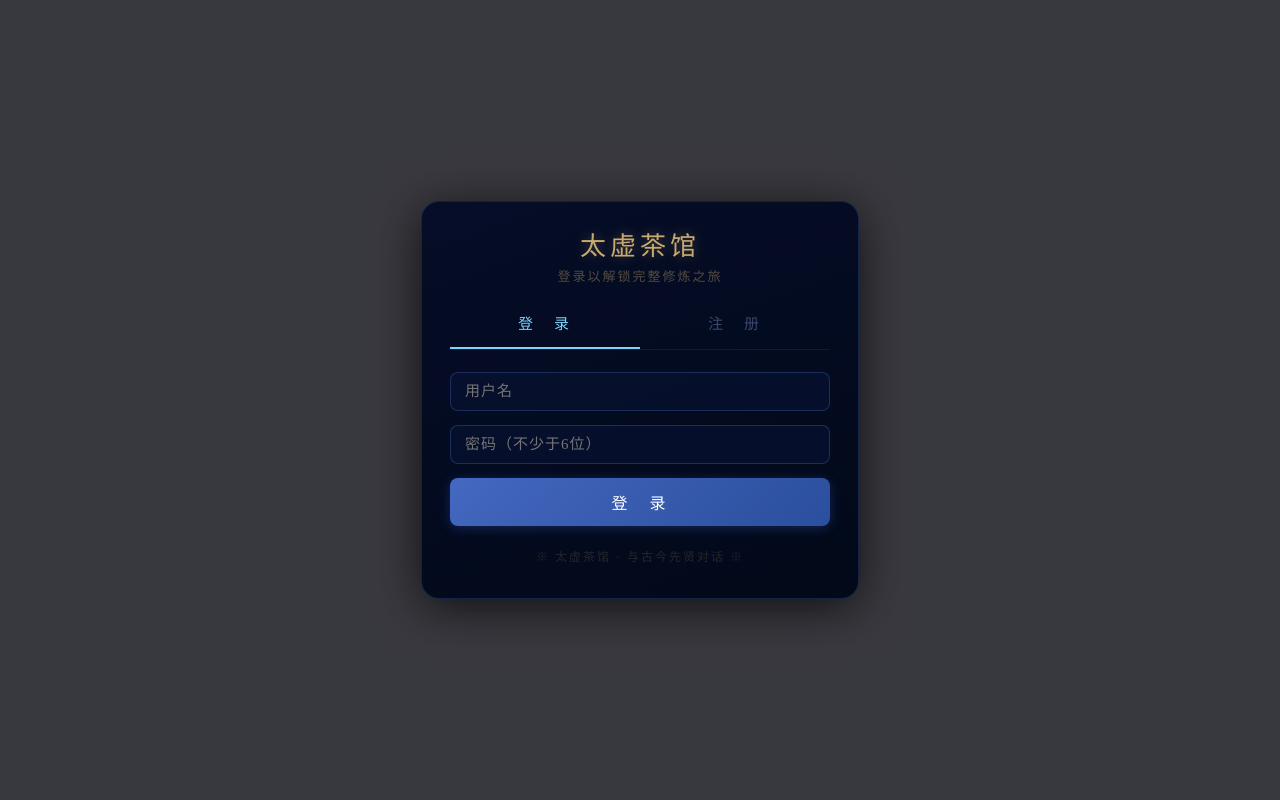
LoginModal › 渲染 › 切换到注册 Tab 后出现昵称输入框
The image size is (1280, 800).
# 全角空格，用 regex 匹配
Step 1. Click the text "注 册" → (735, 324), box [708,316,762,332]
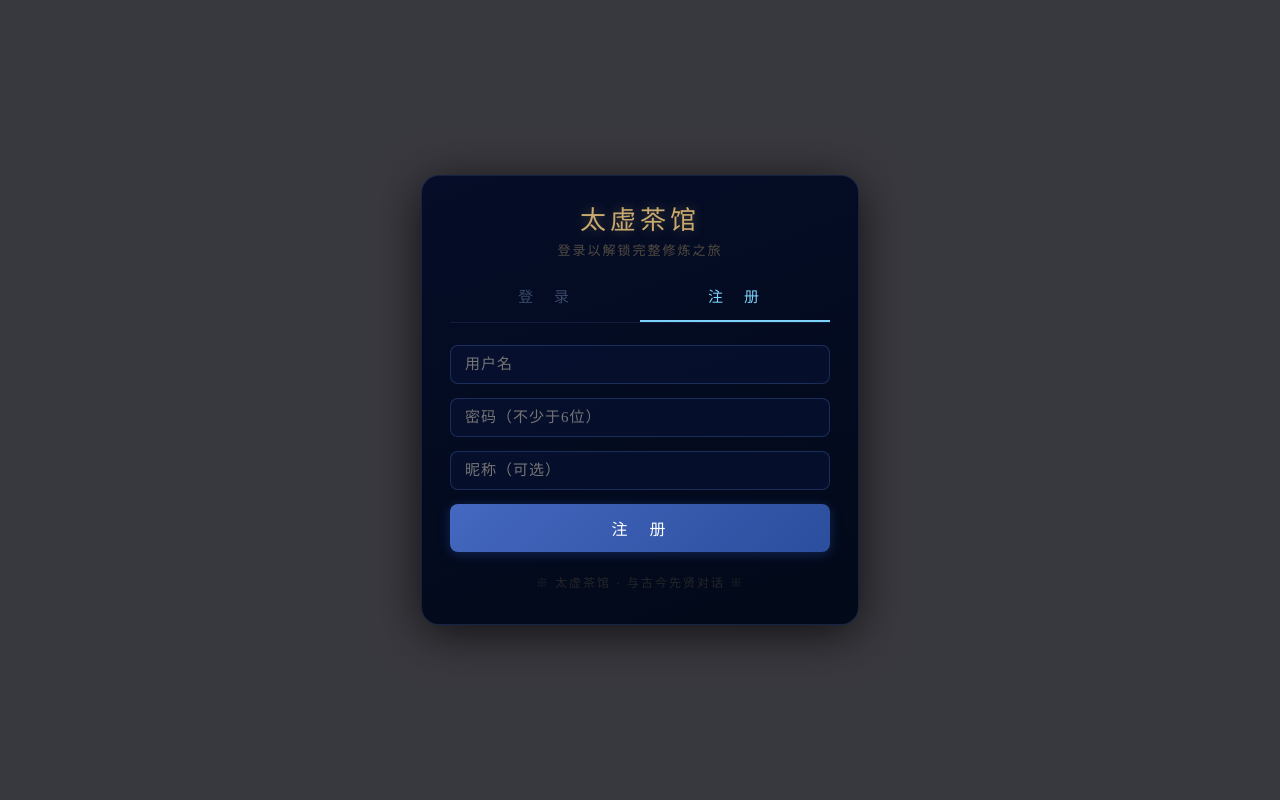
Now the field with placeholder "昵称（可选）" is shown, box [450,451,830,490]
